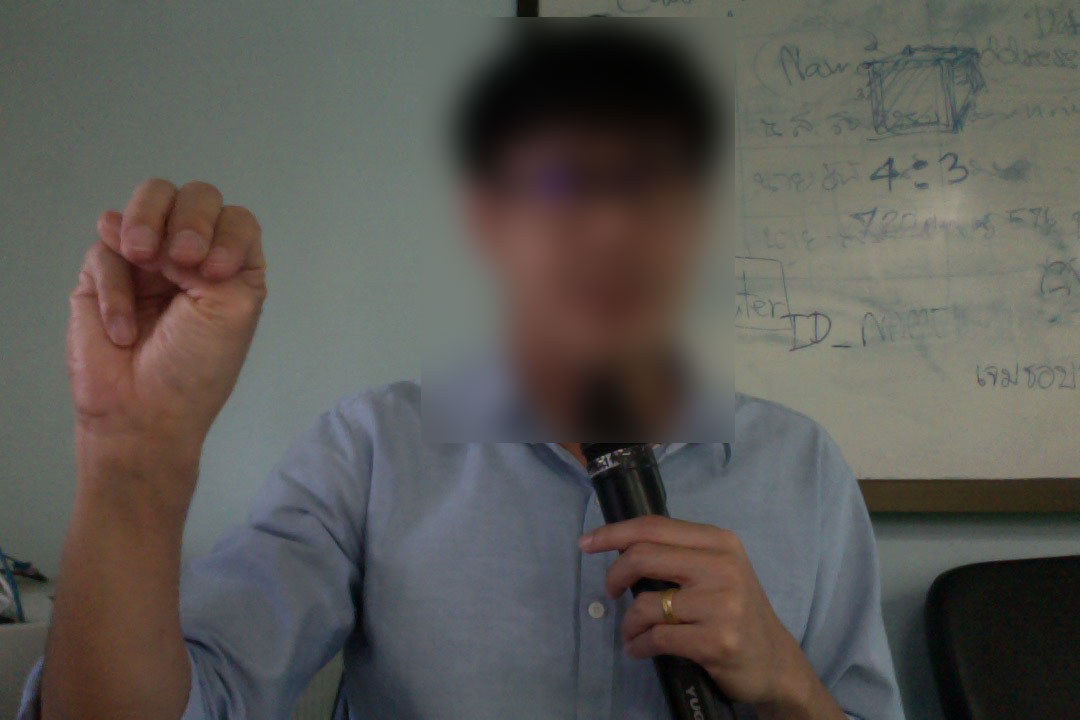mor: (59, 166, 272, 456)
